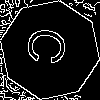C: (25, 25, 77, 69)
